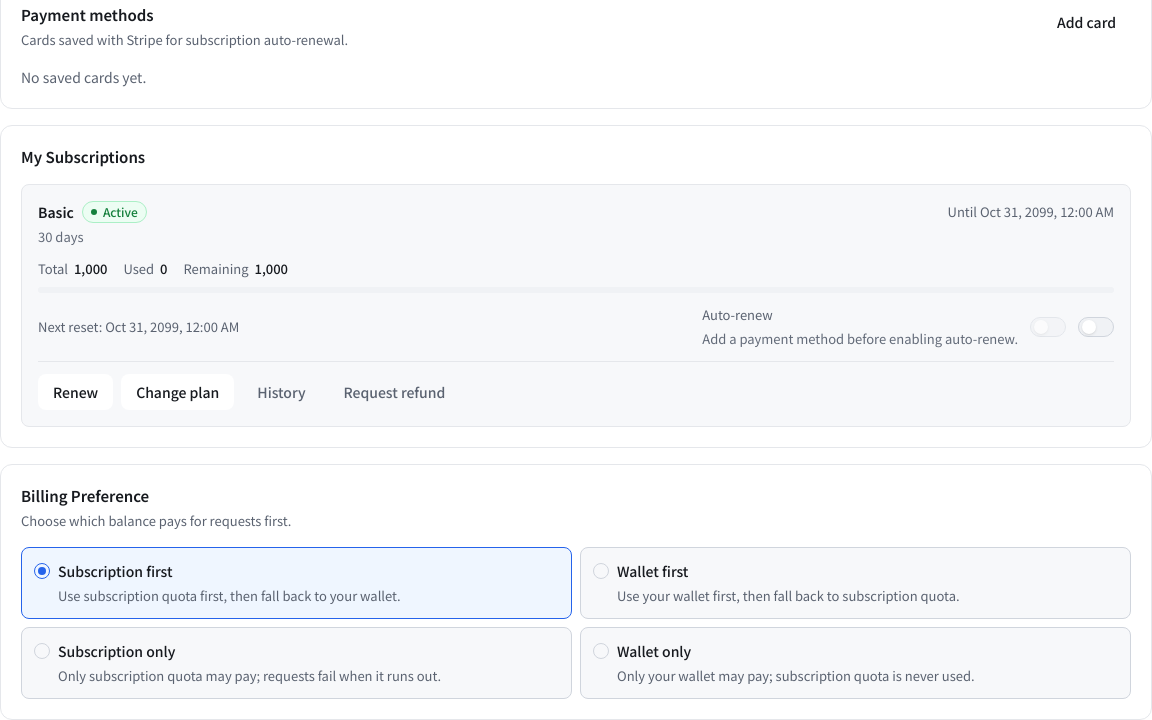
Test: renewal › renders a 402 renewal failure inline
(page scrolled)
Step 1. Click the button with aria-label "Renew: Basic" → (76, 392), box [38,374,113,410]
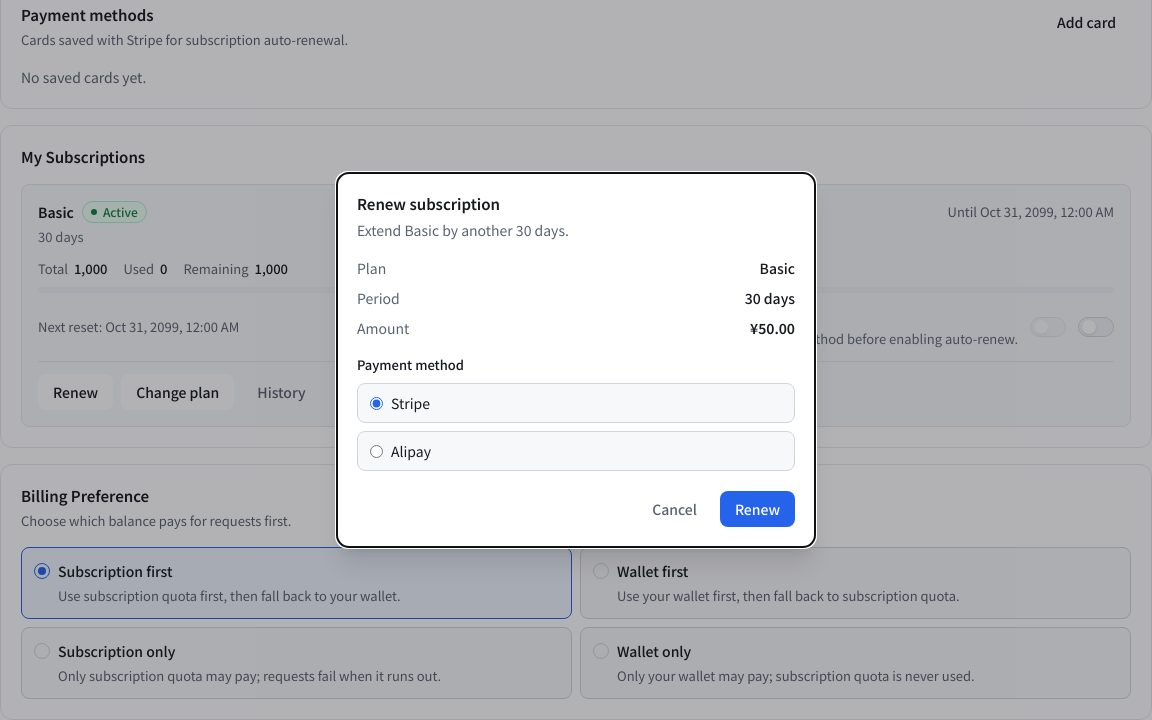
Step 2. Click the button "Renew" → (757, 509), box [720,491,795,527]
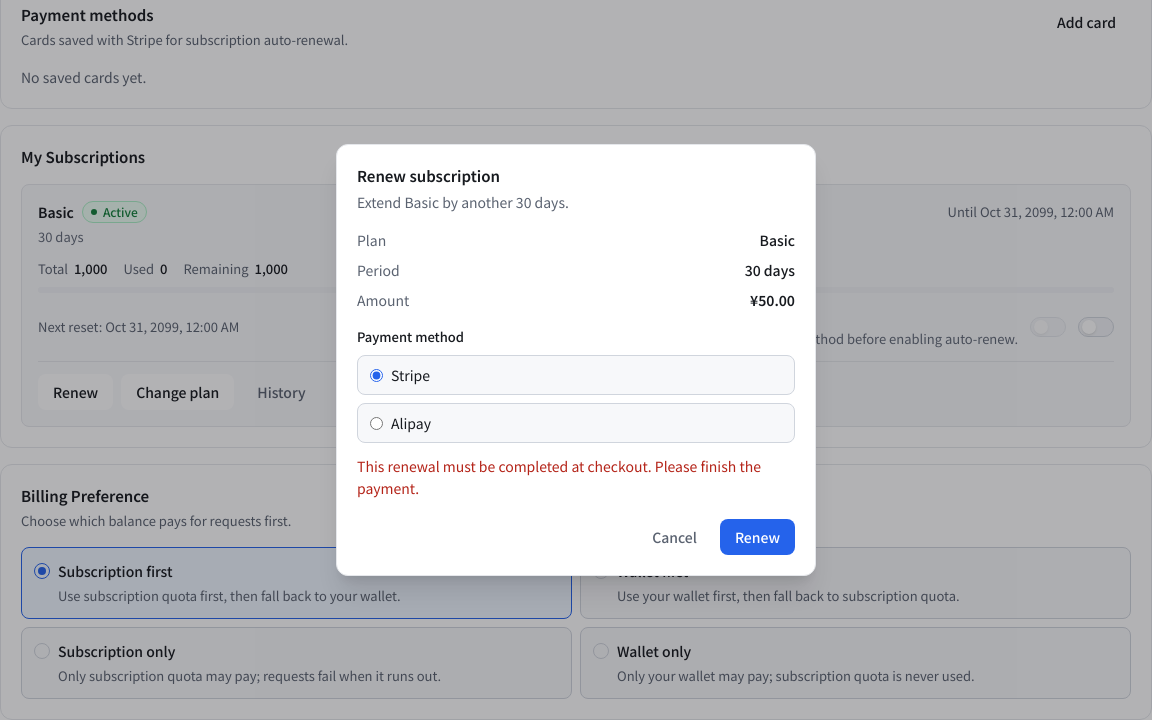
expect the dialog is shown: met, box [336,144,816,576]
expect the message reads "This renewal must be completed at checkout. Please finish the payment.": met, box [357,456,761,498]
